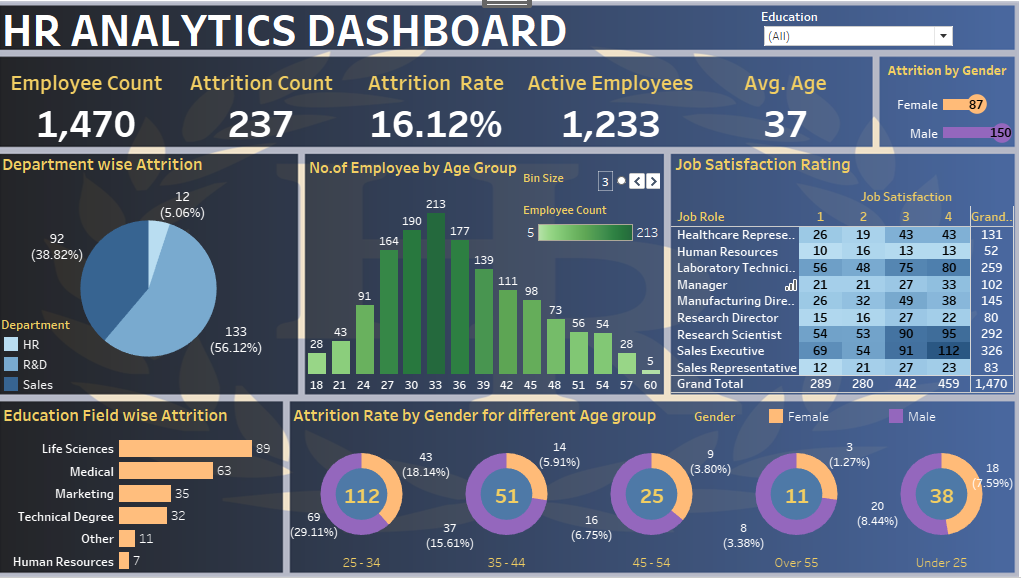

The dashboard page shown, as its layout file describes it:
{"tool":"tableau","page":{"name":"HR ANALYTICS DASHBOARD","canvas":[1200,600],"ordinal":0},"visuals":[{"type":"image","param":"Image/HR background.pptx (1).png","box":[8,8,1184,584]},{"type":"text","box":[92,17,1014,45]},{"type":"filter","title":"Department wise Attrition","param":"[federated.1yofpsy1783tl016n6c8j0smj2cy].[none:Education:nk]","box":[854,19,195,39]},{"type":"worksheet","title":"KPI","mark":"Automatic","box":[92,67,874,91]},{"type":"worksheet","title":"Attrition by Gender","mark":"Automatic","rows":["Gender"],"cols":["Calculation_1226386496161304576","Calculation_1226386496161304576"],"box":[972,68,136,90]},{"type":"worksheet","title":"Department wise Attrition","mark":"Pie","box":[91,160,301,242]},{"type":"worksheet","title":"Job Satisfaction Rating","mark":"Square","rows":["Job Role"],"cols":["Job Satisfaction"],"box":[764,160,343,244]},{"type":"worksheet","title":"No.of Employee by Age Group","mark":"Automatic","rows":["Employee Count"],"cols":["Age (bin)"],"box":[398,164,358,241]},{"type":"parameter","param":"[Parameters].[Parameter 1]","box":[616,179,140,31]},{"type":"legend","title":"No.of Employee by Age Group","param":"[federated.1yofpsy1783tl016n6c8j0smj2cy].[sum:Employee Count:qk]","box":[616,213,140,39]},{"type":"legend","title":"Department wise Attrition","param":"[federated.1yofpsy1783tl016n6c8j0smj2cy].[none:Department:nk]","box":[94,327,90,78]},{"type":"worksheet","title":"Education Field wise Attrition","mark":"Automatic","rows":["Education Field"],"cols":["Calculation_1226386496161304576"],"box":[92,411,283,172]},{"type":"worksheet","title":"Attrition Rate by Gender for different Age group","mark":"Pie","rows":["Calculation_1916563139187007489","Calculation_1916563139187007489"],"cols":["CF_age band"],"box":[382,411,725,172]},{"type":"legend","title":"Attrition Rate by Gender for different Age group","param":"[federated.1yofpsy1783tl016n6c8j0smj2cy].[none:Gender:nk]","box":[787,417,315,35]}]}

Visuals, with their boxes on the page's 1200x600 design canvas (x1, y1, x2, y2). These are canvas units, not pixel positions in the 1021x578 screenshot, which may show the page scaled, cropped or inside an application window:
image: [left=8, top=8, right=1192, bottom=592]
text: [left=92, top=17, right=1106, bottom=62]
"Department wise Attrition" filter: [left=854, top=19, right=1049, bottom=58]
"KPI" worksheet: [left=92, top=67, right=966, bottom=158]
"Attrition by Gender" worksheet: [left=972, top=68, right=1108, bottom=158]
"Department wise Attrition" worksheet (Pie marks): [left=91, top=160, right=392, bottom=402]
"Job Satisfaction Rating" worksheet (Square marks): [left=764, top=160, right=1107, bottom=404]
"No.of Employee by Age Group" worksheet: [left=398, top=164, right=756, bottom=405]
parameter: [left=616, top=179, right=756, bottom=210]
"No.of Employee by Age Group" legend: [left=616, top=213, right=756, bottom=252]
"Department wise Attrition" legend: [left=94, top=327, right=184, bottom=405]
"Education Field wise Attrition" worksheet: [left=92, top=411, right=375, bottom=583]
"Attrition Rate by Gender for different Age group" worksheet (Pie marks): [left=382, top=411, right=1107, bottom=583]
"Attrition Rate by Gender for different Age group" legend: [left=787, top=417, right=1102, bottom=452]
